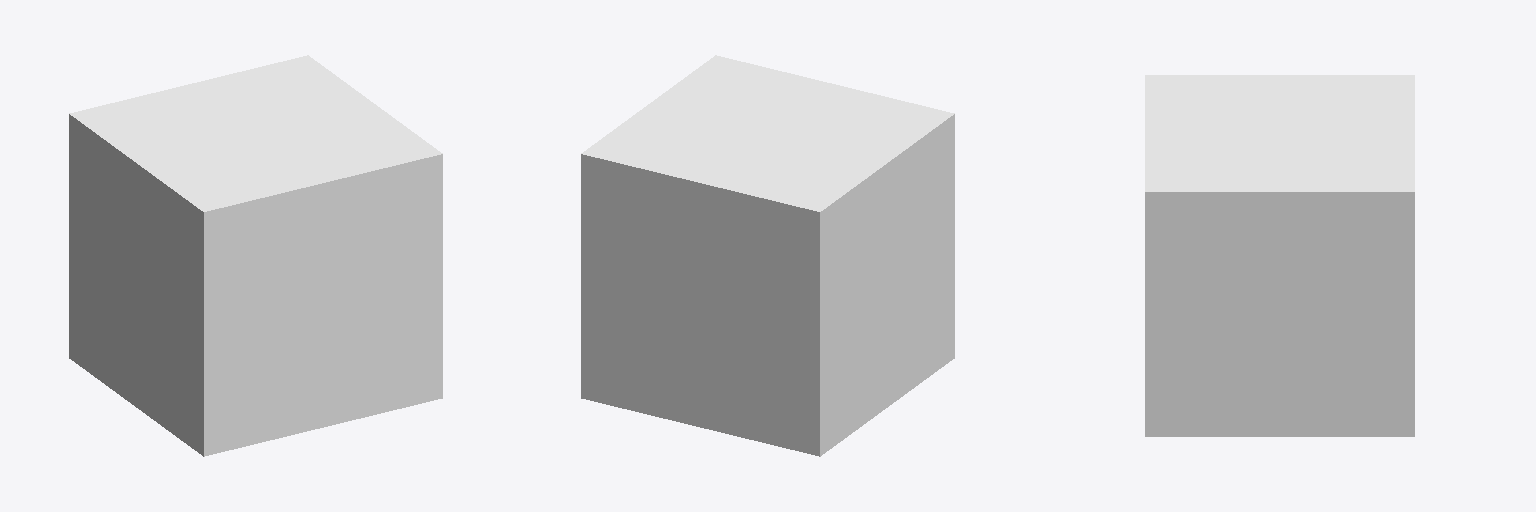
The model's file is others2-7.obj.
3 renders of one model, left to right at view 1: azimuth 30°, elevation 25°; view 2: azimuth 150°, elevation 25°; view 3: azimuth 270°, elevation 25°, orthographic.
Parts seen in each view (by area): view 1: object 1; view 2: object 1; view 3: object 1.
Boxes of the visible parts, x1=… form: object 1: x1=69, y1=55, x2=442, y2=456; object 1: x1=581, y1=55, x2=954, y2=456; object 1: x1=1145, y1=75, x2=1414, y2=436.
Bounding box in the file's own units: 4.1 × 4 × 4.